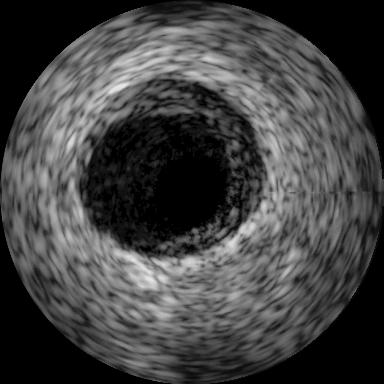Lumen: (153, 144, 237, 237)
